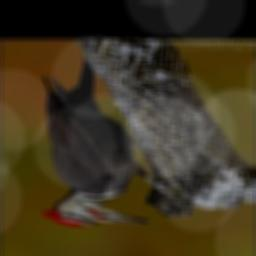Woodpecker: (40, 53, 173, 226)
